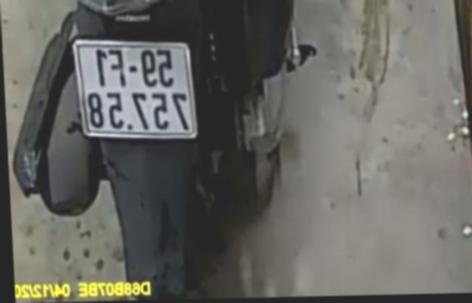License_Plate: (74, 40, 197, 139)
